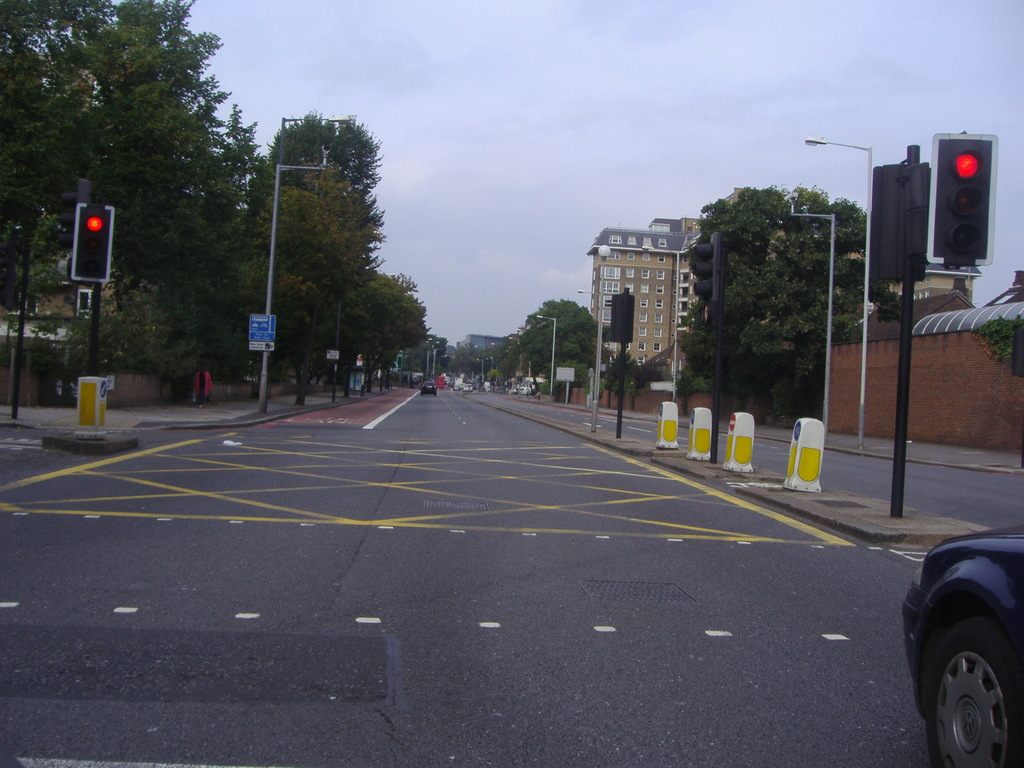red_light: (954, 154, 980, 178), (86, 215, 102, 231)
